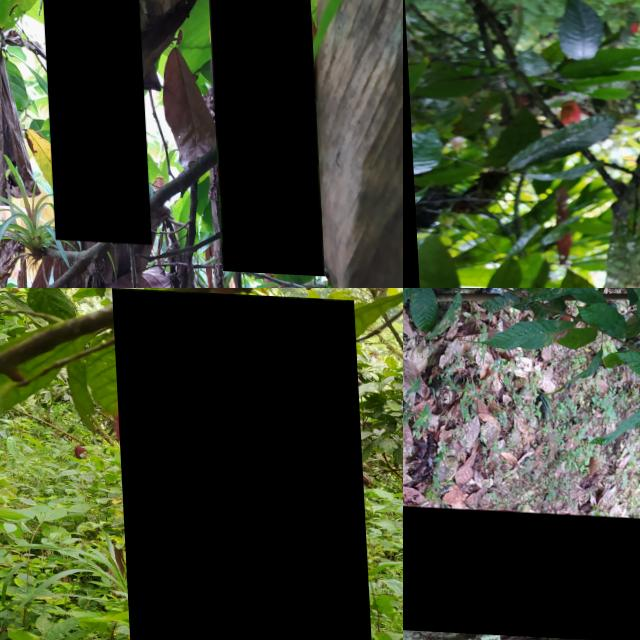Fitoftora: (203, 0, 319, 270), (38, 0, 146, 241)
Sana: (110, 288, 366, 640), (403, 498, 640, 637)
